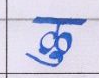u_matra: (27, 53, 66, 67)
